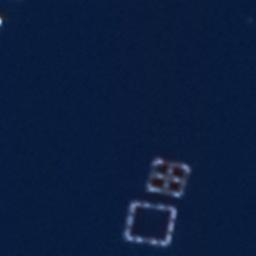square_divide: (144, 153, 193, 201)
square_solid: (121, 195, 181, 250)
